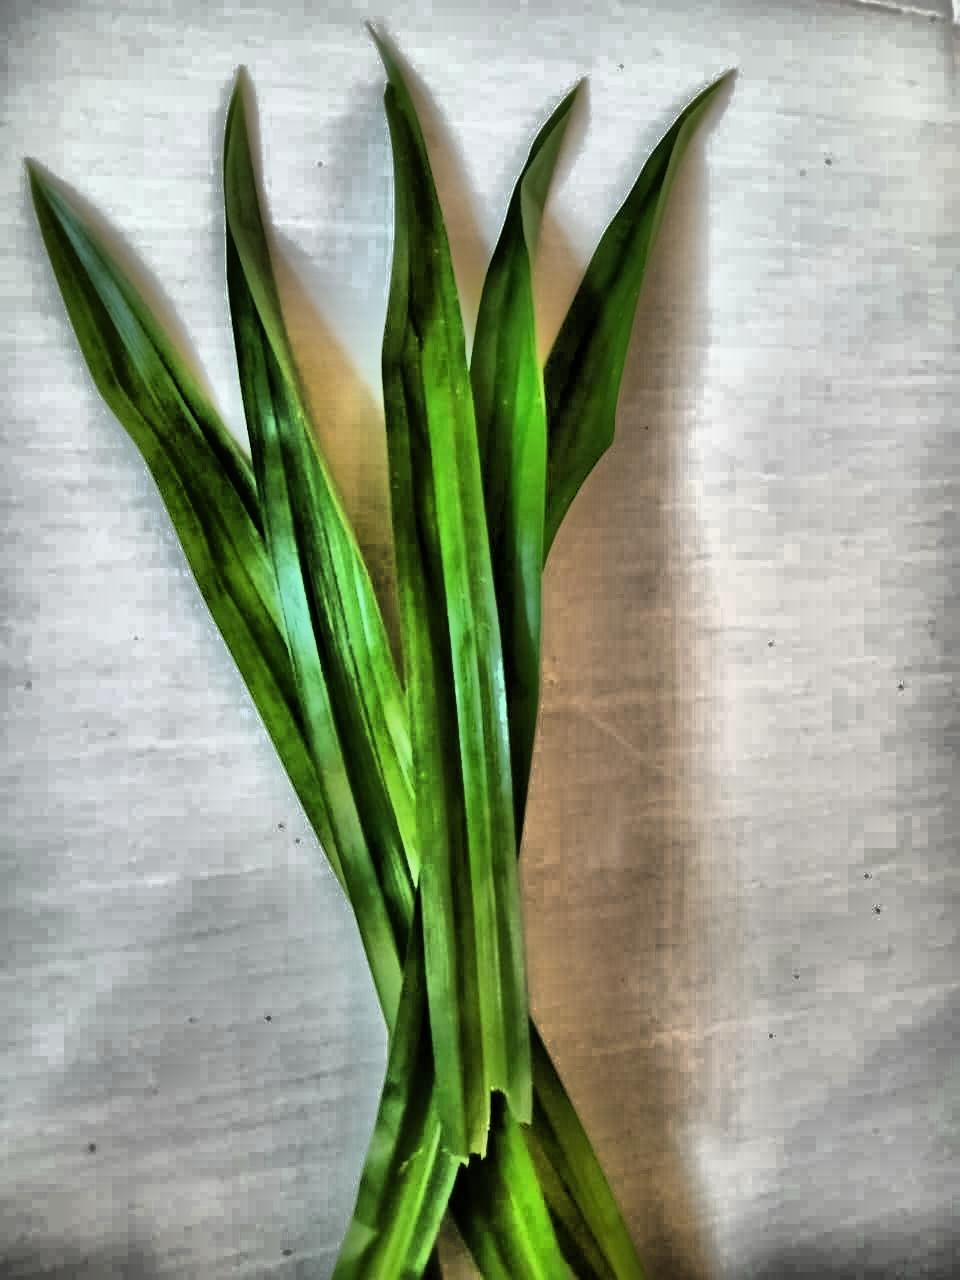daun pandan: (31, 37, 728, 1279)
